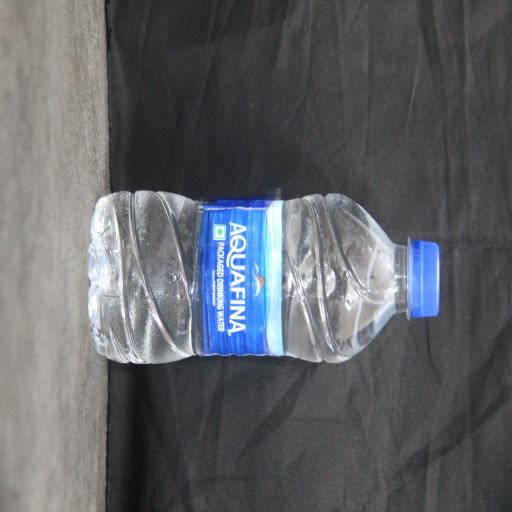Aquafina: (104, 79, 274, 512)
